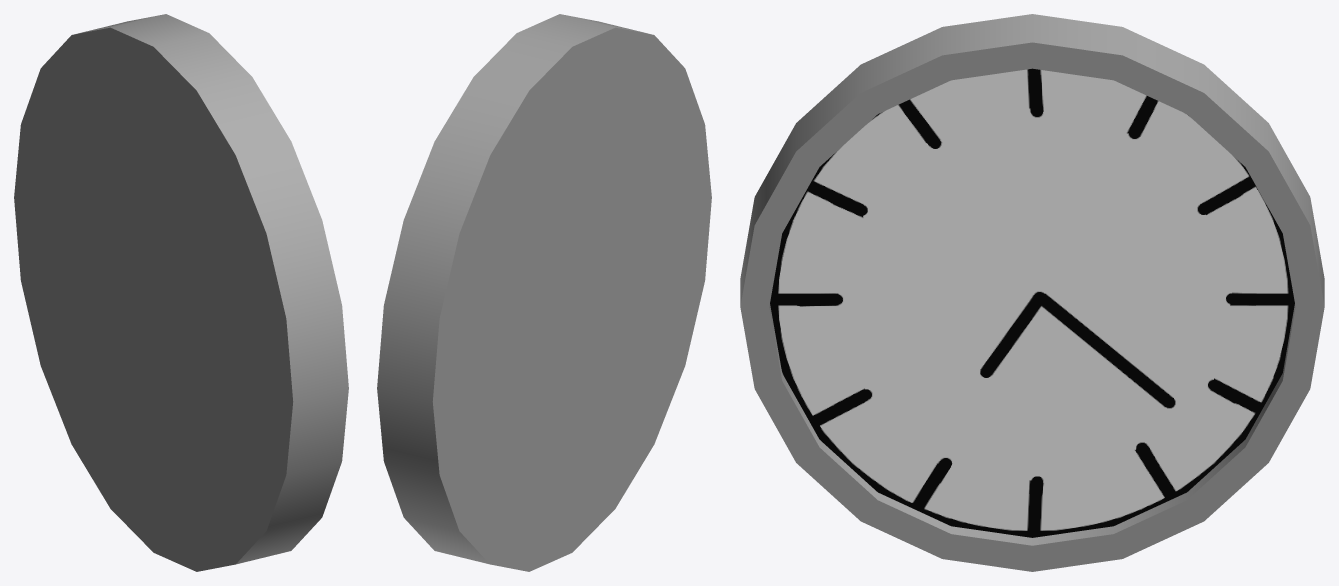
Rendered from Office_Clock.fbx.
3 renders of one model, left to right at view 1: azimuth 30°, elevation 25°; view 2: azimuth 150°, elevation 25°; view 3: azimuth 270°, elevation 25°, orthographic. The views are drawn at different scales.
Visible parts, largest first — view 1: pCylinder1; view 2: pCylinder1; view 3: pCylinder1.
Part boxes in pixels (left/top/right/bottom): pCylinder1: left=14, top=14, right=348, bottom=571; pCylinder1: left=377, top=14, right=711, bottom=571; pCylinder1: left=740, top=14, right=1324, bottom=571.
Bounding box in the file's own units: 0.3615 × 3.14 × 3.14.
